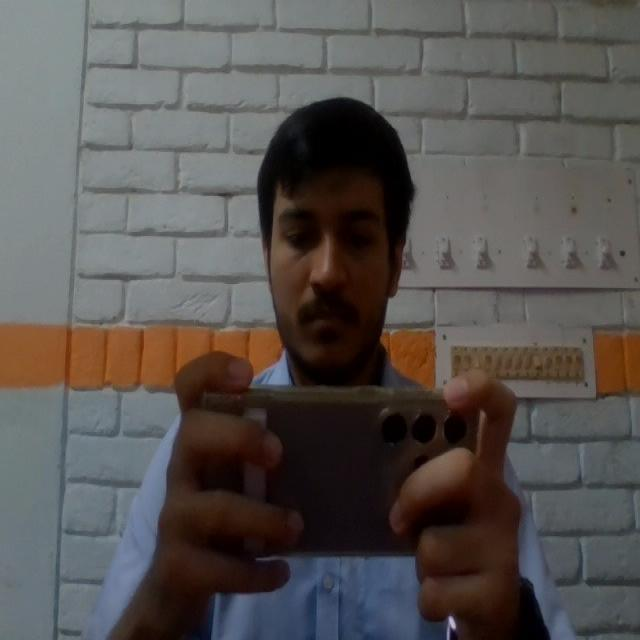phone: (198, 388, 482, 565)
using-phone: (75, 92, 585, 640)
